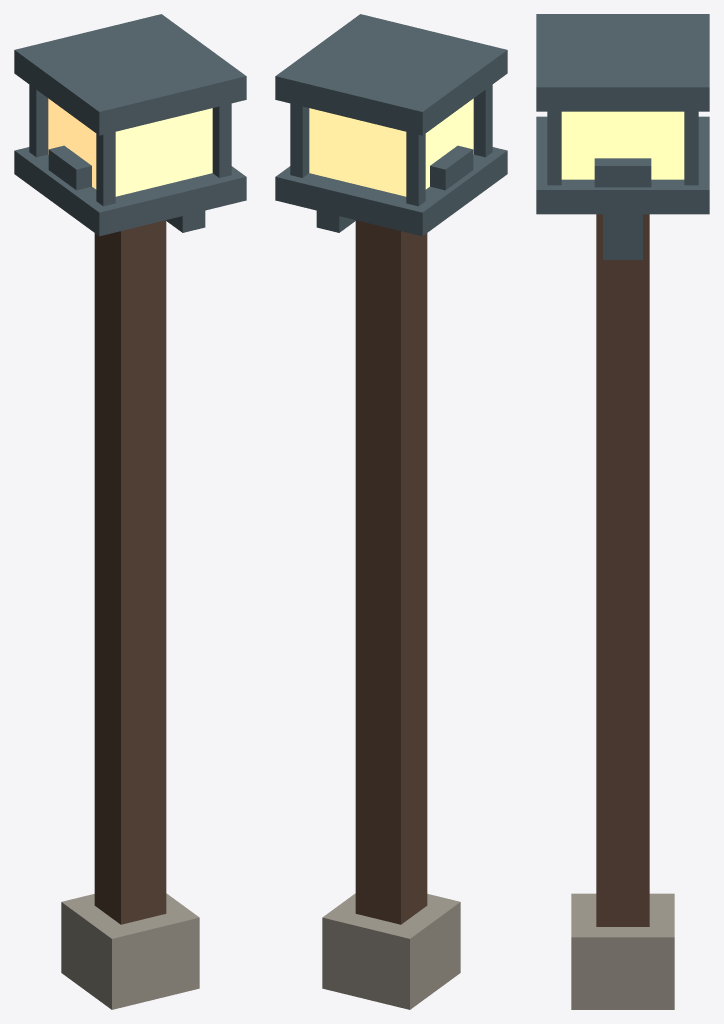
The model's file is ENV_Lantern_A_LOD0.glb.
3 views of the same model, side by side, from view 1: azimuth 30°, elevation 25°; view 2: azimuth 150°, elevation 25°; view 3: azimuth 270°, elevation 25° (orthographic). The views are drawn at different scales.
Visible parts, largest first — view 1: ENV_Lantern_A_LOD0_post_woodDark, ENV_Lantern_A_LOD0_iron_frame_iron, ENV_Lantern_A_LOD0_post_stone, ENV_Lantern_A_LOD0_warm_glass_lamp, ENV_Lantern_A_LOD0_post_iron; view 2: ENV_Lantern_A_LOD0_post_woodDark, ENV_Lantern_A_LOD0_iron_frame_iron, ENV_Lantern_A_LOD0_post_stone, ENV_Lantern_A_LOD0_warm_glass_lamp, ENV_Lantern_A_LOD0_post_iron; view 3: ENV_Lantern_A_LOD0_post_woodDark, ENV_Lantern_A_LOD0_iron_frame_iron, ENV_Lantern_A_LOD0_post_stone, ENV_Lantern_A_LOD0_warm_glass_lamp, ENV_Lantern_A_LOD0_post_iron.
Boxes of the visible parts, box(x1,y1,x2,y2) form: ENV_Lantern_A_LOD0_post_woodDark: box(94, 220, 166, 924); ENV_Lantern_A_LOD0_iron_frame_iron: box(14, 14, 246, 236); ENV_Lantern_A_LOD0_post_stone: box(61, 893, 199, 1009); ENV_Lantern_A_LOD0_warm_glass_lamp: box(48, 98, 212, 196); ENV_Lantern_A_LOD0_post_iron: box(48, 145, 205, 232); ENV_Lantern_A_LOD0_post_woodDark: box(355, 220, 427, 924); ENV_Lantern_A_LOD0_iron_frame_iron: box(275, 14, 507, 236); ENV_Lantern_A_LOD0_post_stone: box(322, 893, 460, 1009); ENV_Lantern_A_LOD0_warm_glass_lamp: box(309, 98, 473, 196); ENV_Lantern_A_LOD0_post_iron: box(316, 145, 473, 232); ENV_Lantern_A_LOD0_post_woodDark: box(596, 214, 649, 926); ENV_Lantern_A_LOD0_iron_frame_iron: box(536, 14, 709, 214); ENV_Lantern_A_LOD0_post_stone: box(571, 893, 674, 1009); ENV_Lantern_A_LOD0_warm_glass_lamp: box(561, 111, 684, 179); ENV_Lantern_A_LOD0_post_iron: box(594, 158, 651, 259).
Size of the model in its own units: 0.52 by 3.1 by 0.52.
